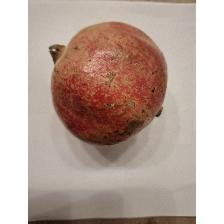Granatapfel: (47, 19, 169, 148)
